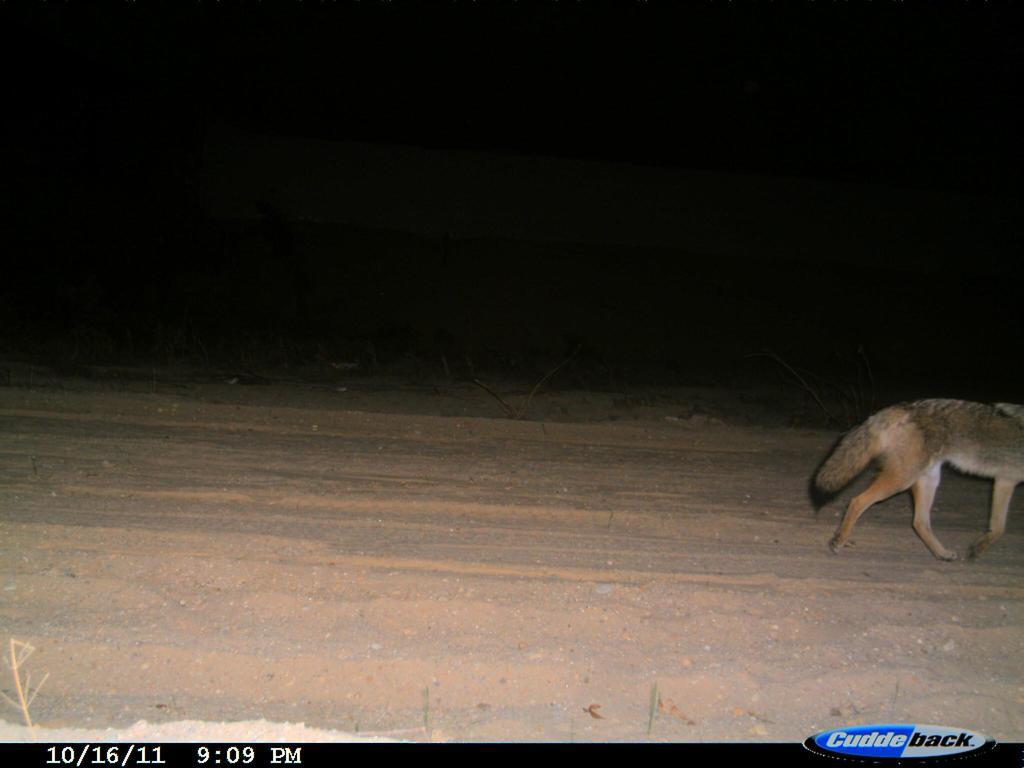coyote: (803, 378, 1024, 561)
